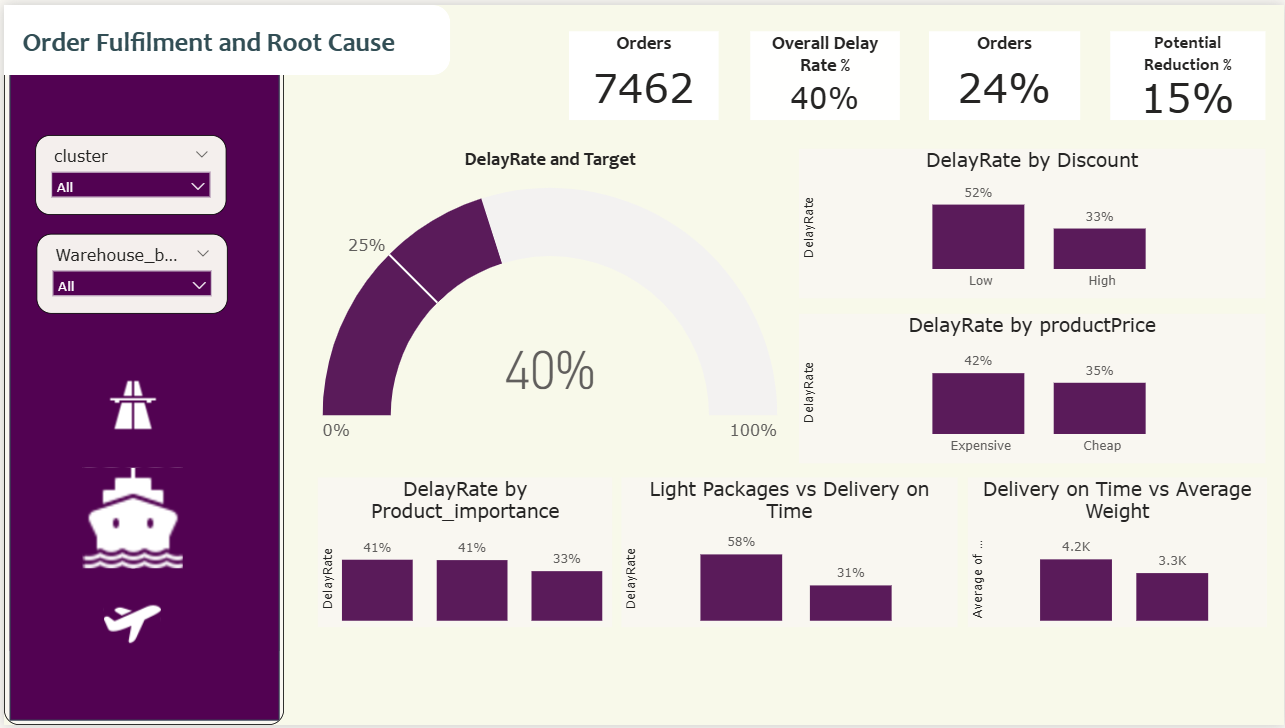

What the dashboard file says about the page in this screenshot:
{"tool":"powerbi","page":{"name":"Ship","canvas":[1280,720],"ordinal":1},"visuals":[{"type":"shape","box":[0,0,280,720],"z":0},{"type":"card","title":"Orders","fields":{"Values":["delivery_clusters.TotalOrders"]},"box":[564.9,26,149.4,89.1],"z":1000},{"type":"card","title":"Overall Delay Rate %","fields":{"Values":["delivery_clusters.DelayRate"]},"box":[745.8,26,149.4,89.1],"z":2000},{"type":"card","title":"Orders","fields":{"Values":["delivery_clusters.HighRiskOrders"]},"box":[925.5,26,150.8,89.1],"z":3000},{"type":"card","title":"Potential Reduction %","fields":{"Values":["delivery_clusters.Potential Reduction %"]},"box":[1106.4,26,154.9,89.1],"z":4000},{"type":"gauge","fields":{"Y":["delivery_clusters.DelayRate"],"TargetValue":["delivery_clusters.Target"]},"box":[314,142.6,464.8,315.3],"z":5000},{"type":"clusteredColumnChart","fields":{"Category":["delivery_clusters.productPrice"],"Y":["delivery_clusters.DelayRate"]},"box":[795.2,308.5,466.2,149.4],"z":6000},{"type":"clusteredColumnChart","fields":{"Y":["delivery_clusters.DelayRate"],"Category":["delivery_clusters.Discount"]},"box":[795.2,144,466.2,149.4],"z":7000},{"type":"clusteredColumnChart","fields":{"Category":["delivery_clusters.Product_importance"],"Y":["delivery_clusters.DelayRate"]},"box":[314,473,294.8,149.4],"z":8000},{"type":"clusteredColumnChart","title":"Delivery on Time vs Average Weight","fields":{"Y":["Avg(delivery_clusters.Weight_in_gms)"],"Category":["delivery_clusters.Delayed"]},"box":[963.8,473,298.9,149.4],"z":9000},{"type":"clusteredColumnChart","title":"Light Packages vs Delivery on Time","fields":{"Y":["delivery_clusters.DelayRate"],"Category":["delivery_clusters.light_package"]},"box":[617,473,335.9,149.4],"z":10000},{"type":"slicer","fields":{"Values":["delivery_clusters.cluster"]},"box":[31.2,130,191.2,80],"z":11000},{"type":"actionButton","box":[83.3,367.3,90,65],"z":12000},{"type":"actionButton","box":[58.8,458.8,140,108.8],"z":13000},{"type":"shape","box":[0,0,446.2,70],"z":14000},{"type":"textbox","box":[0,0,415,61.2],"z":15000},{"type":"actionButton","box":[88.3,583.5,80,65],"z":16000},{"type":"slicer","fields":{"Values":["delivery_clusters.Warehouse_block"]},"box":[32.5,228.8,191.2,80],"z":17000}]}

Visuals, with their boxes in screenshot pixels (x1, y1, x2, y2), scaled from the page's 1280x720 canvas onto the 1285x728 screenshot:
shape: [left=0, top=0, right=281, bottom=727]
"Orders" card: [left=567, top=26, right=717, bottom=116]
"Overall Delay Rate %" card: [left=749, top=26, right=899, bottom=116]
"Orders" card: [left=929, top=26, right=1081, bottom=116]
"Potential Reduction %" card: [left=1111, top=26, right=1266, bottom=116]
gauge - delivery_clusters.DelayRate x delivery_clusters.Target: [left=315, top=144, right=782, bottom=463]
clusteredColumnChart - delivery_clusters.productPrice x delivery_clusters.DelayRate: [left=798, top=312, right=1266, bottom=463]
clusteredColumnChart - delivery_clusters.DelayRate x delivery_clusters.Discount: [left=798, top=146, right=1266, bottom=297]
clusteredColumnChart - delivery_clusters.Product_importance x delivery_clusters.DelayRate: [left=315, top=478, right=611, bottom=629]
"Delivery on Time vs Average Weight" clusteredColumnChart: [left=968, top=478, right=1268, bottom=629]
"Light Packages vs Delivery on Time" clusteredColumnChart: [left=619, top=478, right=957, bottom=629]
slicer - delivery_clusters.cluster: [left=31, top=131, right=223, bottom=212]
actionButton: [left=84, top=371, right=174, bottom=437]
actionButton: [left=59, top=464, right=200, bottom=574]
shape: [left=0, top=0, right=448, bottom=71]
textbox: [left=0, top=0, right=417, bottom=62]
actionButton: [left=89, top=590, right=169, bottom=656]
slicer - delivery_clusters.Warehouse_block: [left=33, top=231, right=225, bottom=312]
